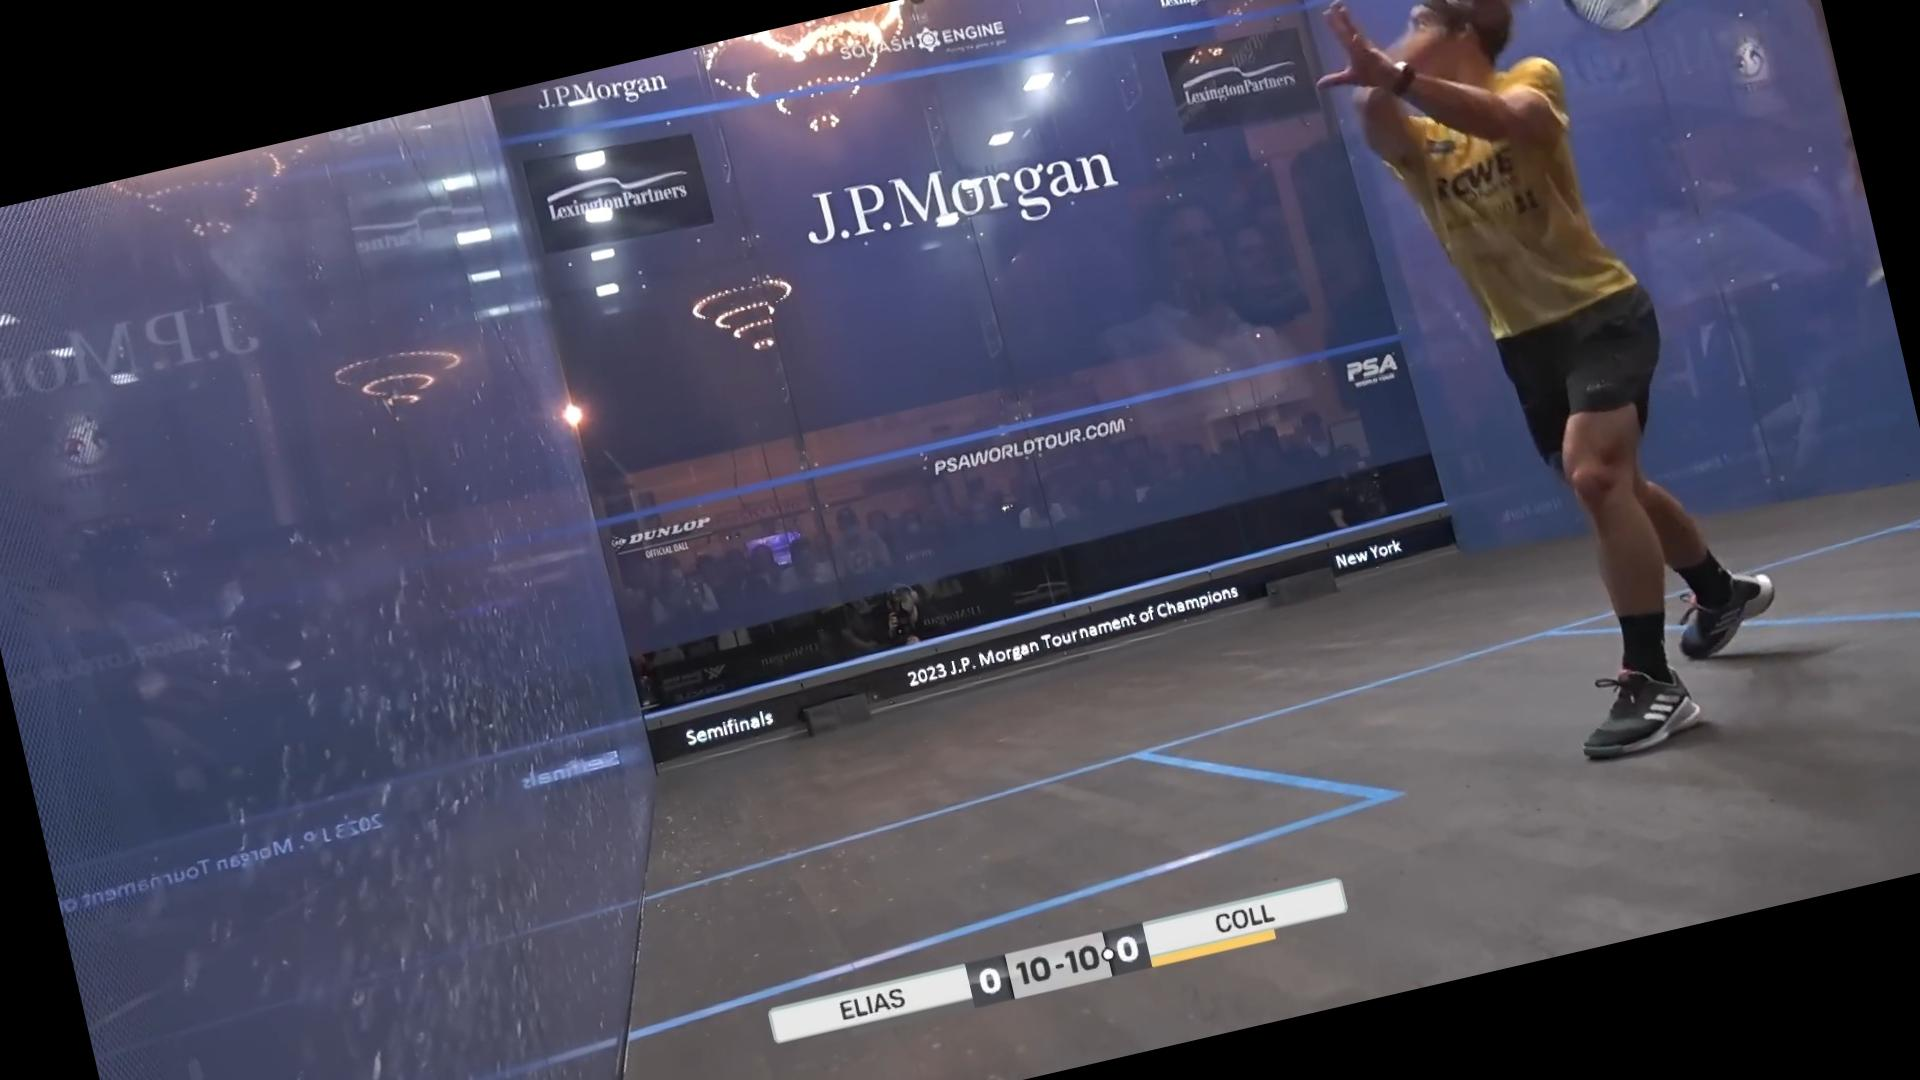Racket: (1531, 0, 1716, 55)
